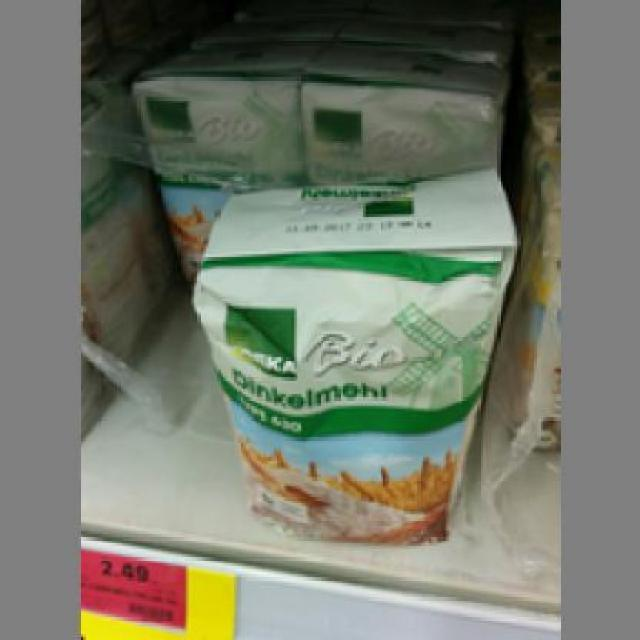Flour: (188, 170, 518, 546)
